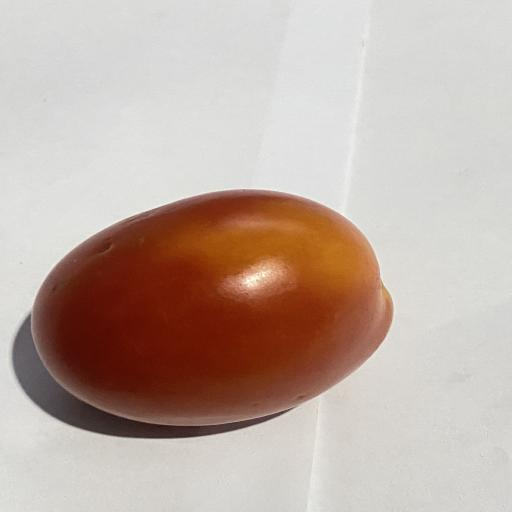ripe: (32, 190, 392, 425)
